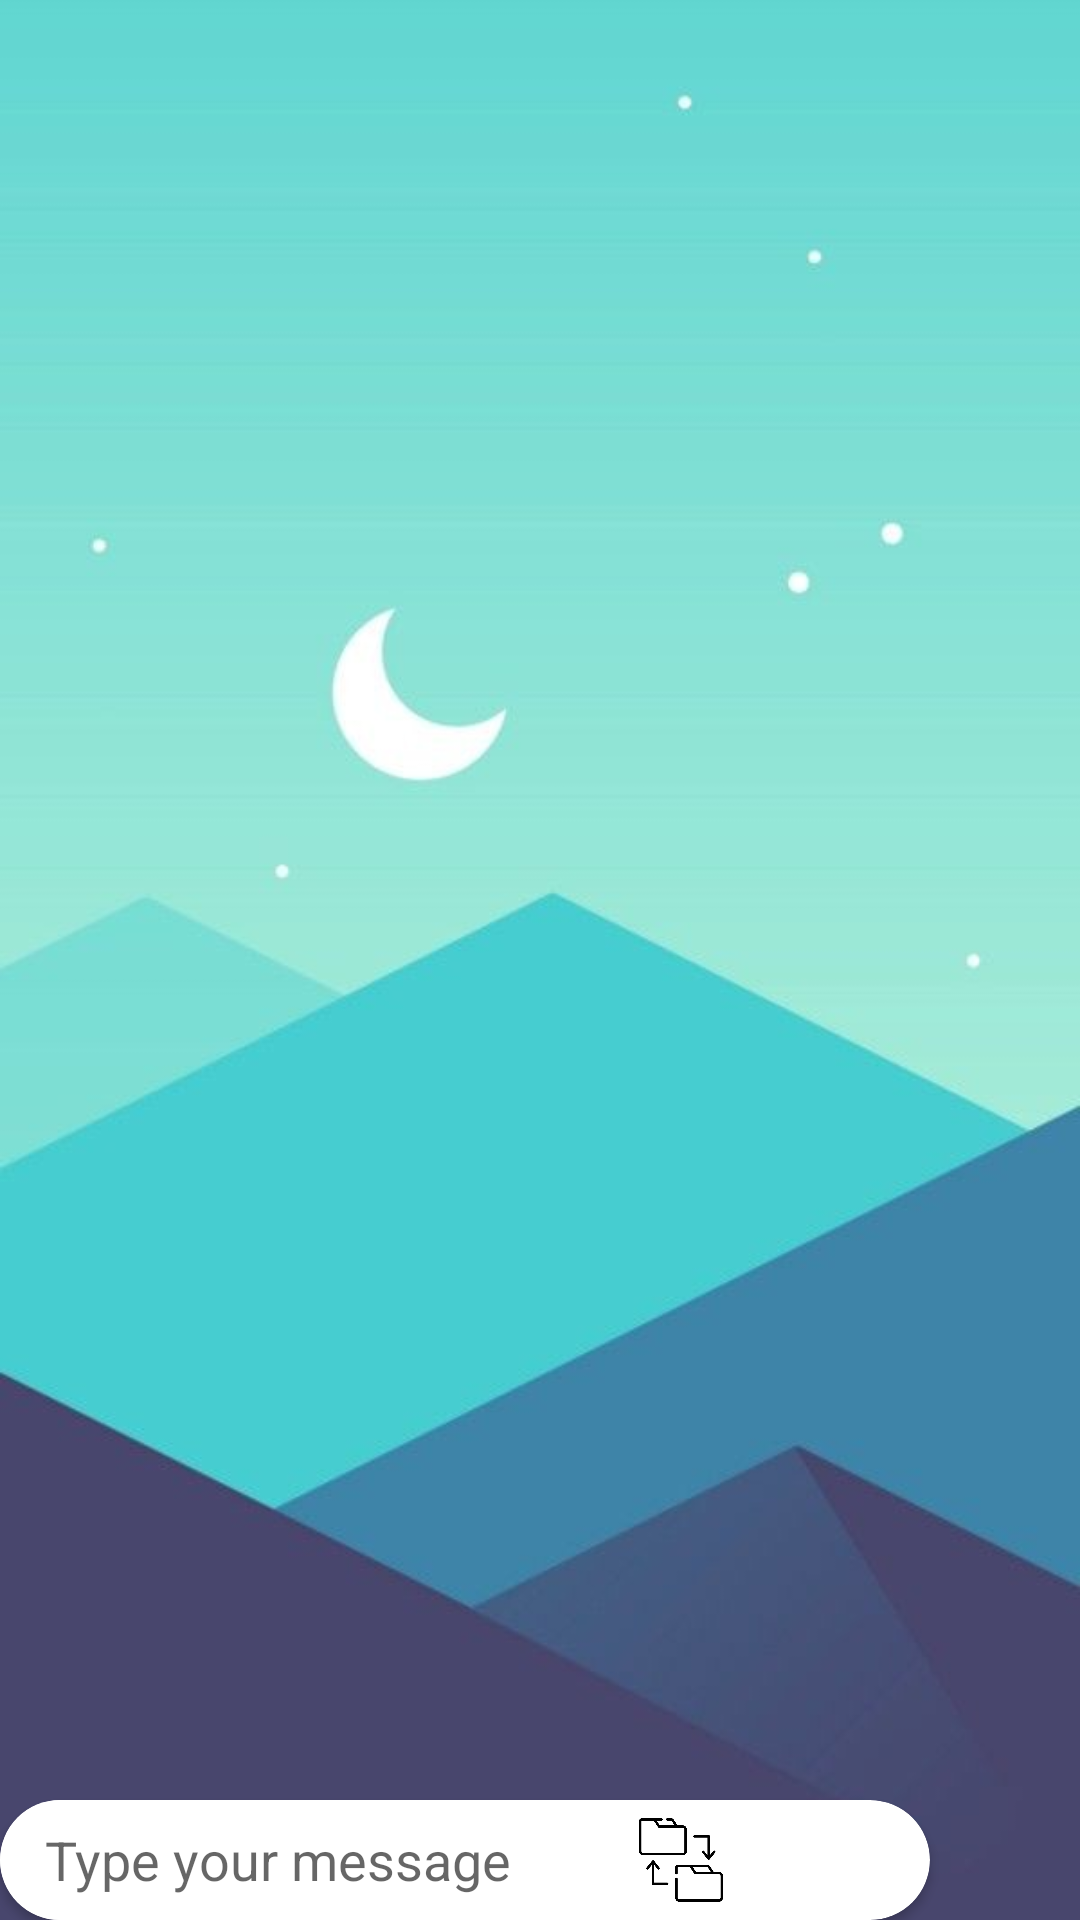

Named icons in this screenshot (1080px x 1920px) and their bounding boxes, (x1=x1, y1=y1, x2=x2, y2=y2):
filesharing: (x1=639, y1=1818, x2=723, y2=1902)
